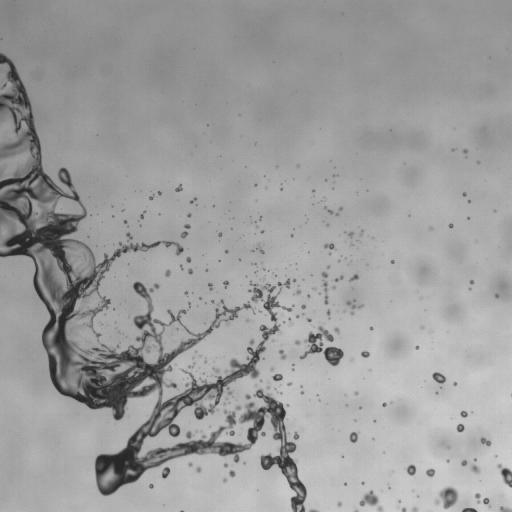droplet: (299, 325, 343, 365), (434, 486, 458, 509), (359, 490, 383, 511), (346, 301, 363, 314), (432, 372, 445, 383), (470, 463, 480, 473), (406, 464, 415, 475), (349, 432, 358, 442), (162, 467, 170, 478), (426, 468, 435, 477), (272, 373, 282, 381), (482, 497, 490, 507), (481, 437, 490, 445), (279, 349, 286, 359), (324, 243, 335, 249), (456, 424, 464, 432), (349, 274, 358, 281), (474, 493, 480, 503), (257, 245, 263, 253), (361, 351, 369, 357), (175, 185, 182, 191), (460, 411, 467, 417), (293, 432, 299, 439), (461, 460, 467, 466), (195, 466, 201, 472), (229, 470, 235, 476), (165, 269, 170, 276), (223, 280, 228, 287), (208, 283, 213, 290), (411, 506, 418, 511), (347, 232, 353, 237), (295, 289, 300, 295), (334, 327, 339, 333), (294, 340, 300, 345), (326, 310, 330, 317), (245, 394, 250, 399), (188, 462, 193, 467), (188, 268, 192, 274), (400, 507, 406, 511), (149, 195, 154, 199), (186, 257, 190, 262), (301, 304, 305, 309), (223, 463, 228, 467), (222, 478, 227, 482), (337, 501, 341, 506), (463, 149, 467, 153), (462, 192, 466, 196), (449, 224, 453, 228), (218, 232, 222, 236), (354, 391, 358, 395), (382, 402, 386, 406), (149, 484, 153, 488), (360, 230, 363, 235), (187, 213, 191, 216), (470, 280, 473, 284), (495, 293, 498, 297), (307, 318, 310, 322), (369, 327, 373, 330), (415, 346, 419, 349), (270, 367, 273, 371), (287, 382, 291, 385), (266, 386, 270, 389), (222, 402, 226, 405), (339, 207, 342, 210), (253, 262, 256, 265), (332, 286, 335, 289), (307, 294, 310, 297), (174, 327, 177, 330), (204, 359, 207, 362), (453, 382, 456, 385), (185, 291, 187, 295), (354, 509, 358, 511), (158, 191, 160, 194), (124, 220, 126, 223), (290, 234, 293, 236), (225, 250, 228, 252), (391, 260, 393, 263), (180, 265, 182, 268), (327, 265, 329, 268), (313, 287, 315, 290), (211, 300, 214, 302), (188, 303, 191, 305), (296, 315, 299, 317), (301, 391, 303, 394), (361, 482, 364, 484), (261, 230, 263, 232), (243, 462, 245, 464), (388, 486, 390, 488), (398, 500, 400, 502)
ligament: (0, 52, 306, 511), (497, 464, 511, 487), (322, 272, 328, 304), (181, 224, 190, 238), (461, 507, 477, 511), (499, 506, 511, 511), (324, 207, 332, 213), (140, 211, 145, 219), (335, 276, 343, 281), (190, 197, 196, 203), (0, 83, 5, 89), (288, 318, 292, 325), (309, 509, 318, 511)
